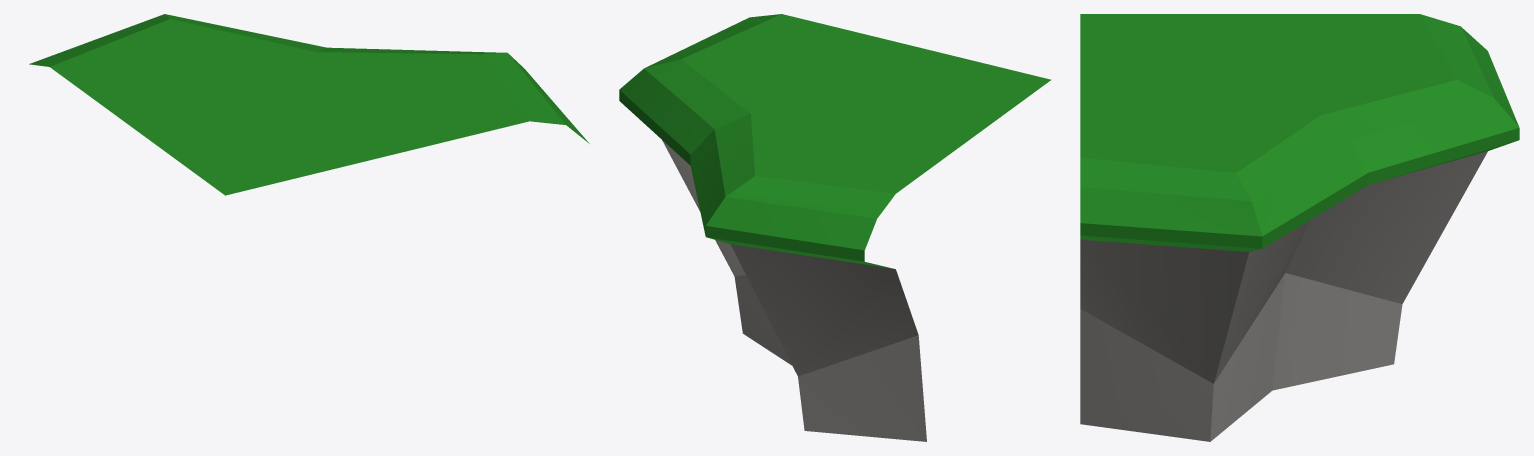
File: Cliff_Terrain_Corner_Outer_2x2_Top.glb
3 renders of one model, left to right at view 1: azimuth 30°, elevation 25°; view 2: azimuth 150°, elevation 25°; view 3: azimuth 270°, elevation 25°, orthographic. The views are drawn at different scales.
Visible parts, largest first — view 1: Cliff_Terrain_Corner_Outer_2x2_Top; view 2: Cliff_Terrain_Corner_Outer_2x2_Top; view 3: Cliff_Terrain_Corner_Outer_2x2_Top.
Boxes of the visible parts, box(x1,y1,x2,y2) form: Cliff_Terrain_Corner_Outer_2x2_Top: box(29, 14, 589, 195); Cliff_Terrain_Corner_Outer_2x2_Top: box(619, 14, 1051, 441); Cliff_Terrain_Corner_Outer_2x2_Top: box(1080, 14, 1519, 441).
Size of the model in its own units: 1.62 by 1.2 by 1.62.
